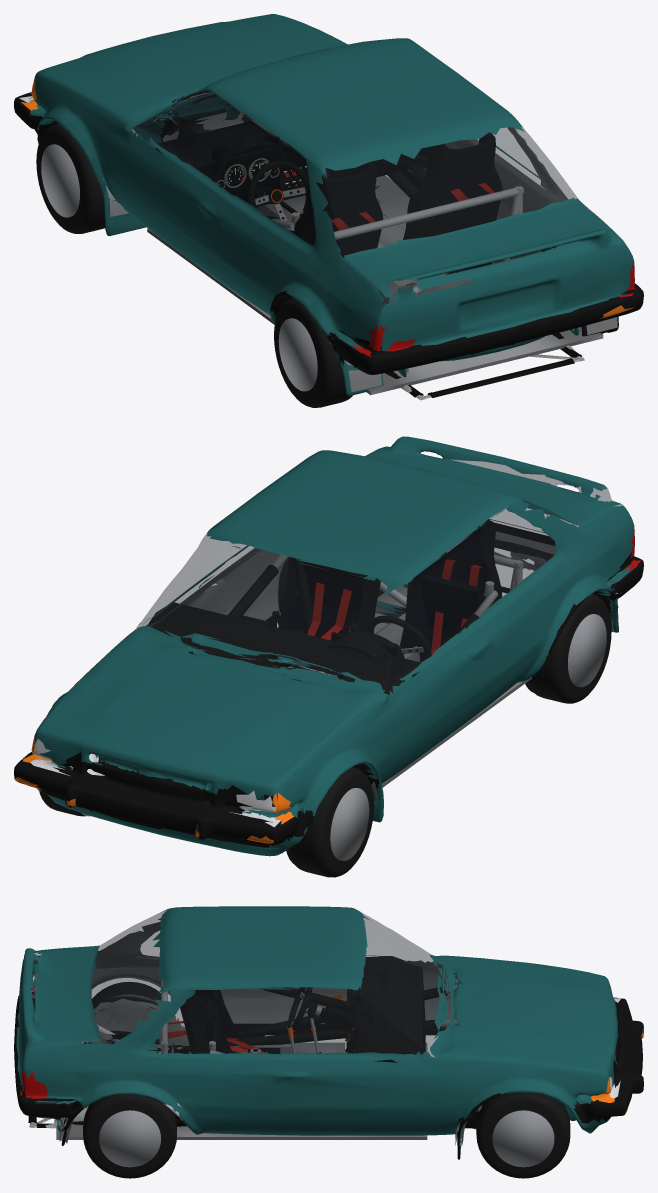
The model's file is car_tarn.glb.
The picture shows the model from 3 angles, top to bottom: view 1: azimuth 30°, elevation 25°; view 2: azimuth 150°, elevation 25°; view 3: azimuth 270°, elevation 25°; orthographic projection. The views are drawn at different scales.
Parts seen in each view (by area): view 1: Body, Interior, WheelRL, WheelFL.006, SteeringWheelMesh; view 2: Body, Interior, WheelFL.006, WheelRL, SteeringWheelMesh; view 3: Body, Interior, WheelFR.006, WheelRR, WheelRL, SteeringWheelMesh.
Part boxes in pixels (box(x1,y1,x2,y2)): Body: box(14, 14, 643, 395); Interior: box(103, 91, 617, 400); WheelRL: box(274, 298, 352, 407); WheelFL.006: box(36, 123, 105, 233); SteeringWheelMesh: box(248, 160, 308, 220); Body: box(14, 436, 643, 863); Interior: box(146, 511, 622, 803); WheelFL.006: box(288, 767, 373, 877); WheelRL: box(527, 594, 611, 703); SteeringWheelMesh: box(367, 615, 431, 662); Body: box(14, 906, 643, 1159); Interior: box(28, 918, 481, 1148); WheelFR.006: box(476, 1092, 570, 1178); WheelRR: box(83, 1094, 176, 1178); WheelRL: box(83, 982, 175, 1044); SteeringWheelMesh: box(287, 987, 321, 1031).
Size of the model in its own units: 1.82 by 1.29 by 4.08.
Materials: 32 (9 with a texture image).
